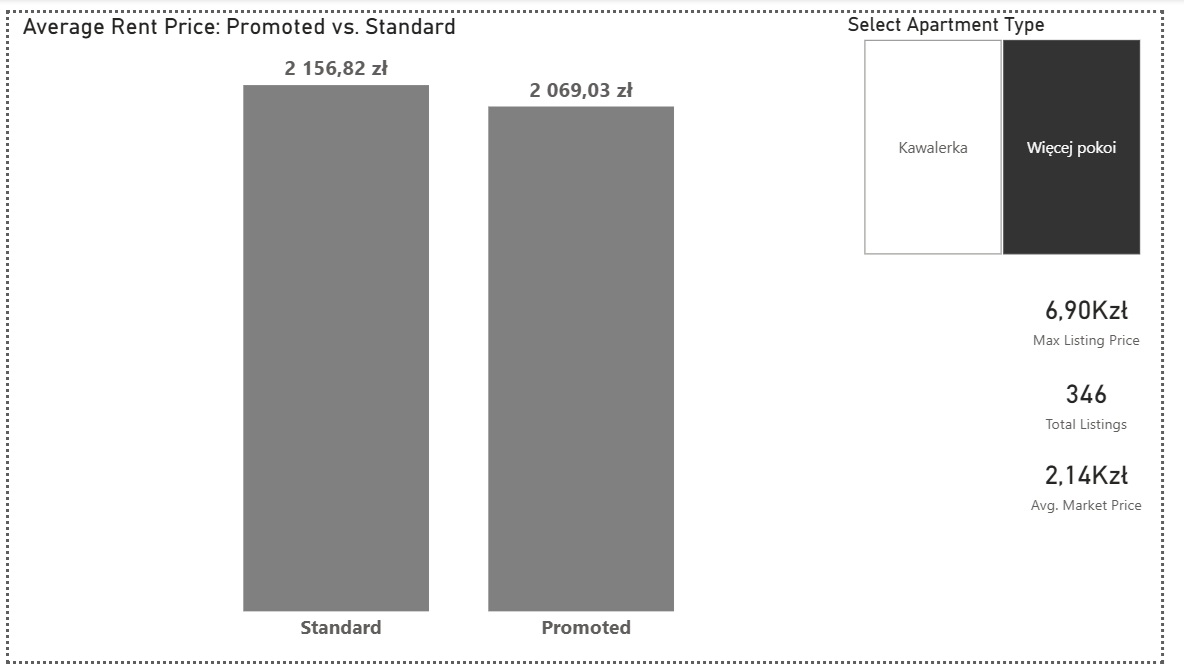

The page's visual inventory and layout, read from the dashboard file:
{"tool":"powerbi","page":{"name":"Page 1","canvas":[1280,720],"ordinal":0},"visuals":[{"type":"columnChart","title":"Average Rent Price: Promoted vs. Standard","fields":{"Category":["olx_gotowe_do_powerbi.Promowanie (groups)"],"Y":["Avg(olx_gotowe_do_powerbi.Cena)"]},"box":[10,0,990,707.5],"z":0},{"type":"slicer","title":"Select Apartment Type","fields":{"Values":["olx_gotowe_do_powerbi.Liczba_pokoi"]},"box":[926.2,0,353.8,273.1],"z":1},{"type":"card","fields":{"Values":["CountNonNull(olx_gotowe_do_powerbi.Cena)"]},"box":[1113.3,386.7,166.7,90],"z":3},{"type":"card","fields":{"Values":["Avg(olx_gotowe_do_powerbi.Cena)"]},"box":[1113.3,476.7,166.7,90],"z":4},{"type":"card","fields":{"Values":["Max(olx_gotowe_do_powerbi.Cena)"]},"box":[1113.3,290,166.7,96.7],"z":5}]}

Visuals, with their boxes in screenshot pixels (x1, y1, x2, y2), scaled from the page's 1280x720 canvas onto the 1184x671 screenshot:
"Average Rent Price: Promoted vs. Standard" columnChart: Rect(9, 0, 925, 659)
"Select Apartment Type" slicer: Rect(857, 0, 1183, 255)
card - CountNonNull(olx_gotowe_do_powerbi.Cena): Rect(1030, 360, 1183, 444)
card - Avg(olx_gotowe_do_powerbi.Cena): Rect(1030, 444, 1183, 528)
card - Max(olx_gotowe_do_powerbi.Cena): Rect(1030, 270, 1183, 360)
